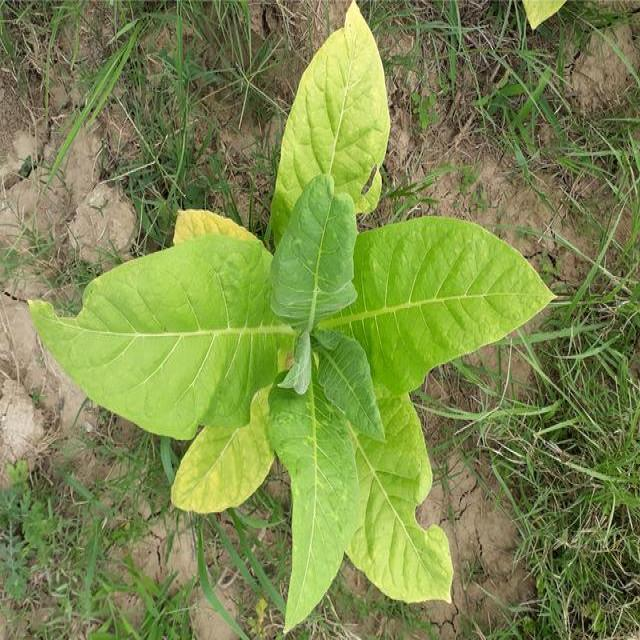crop: (35, 3, 562, 640)
